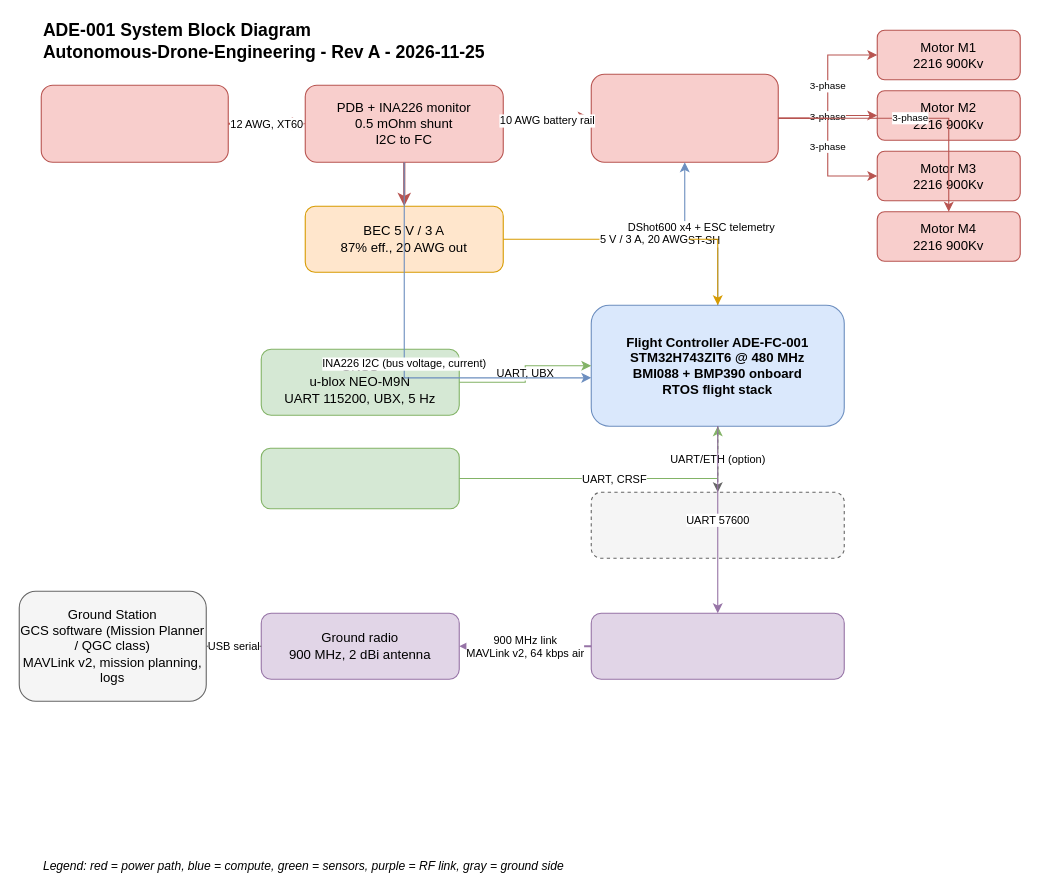
Some shapes in this 1040 by 895 pixel diagram are drawn without their labels. Here are the shapes that lost their labels. From the top down, the centre of each, then its label:
(134,123): Battery 4S 3300 mAh LiPo XT60 output
(684,117): 4-in-1 ESC 40 A / ch, DShot600 BLHeli_32 class
(359,478): RC Receiver CRSF / SBUS UART
(717,524): Payload bay (reserved) nose mount, ~60 g companion computer option
(717,645): Air telemetry radio SiK/RFD900-class 900 MHz UART 57600
